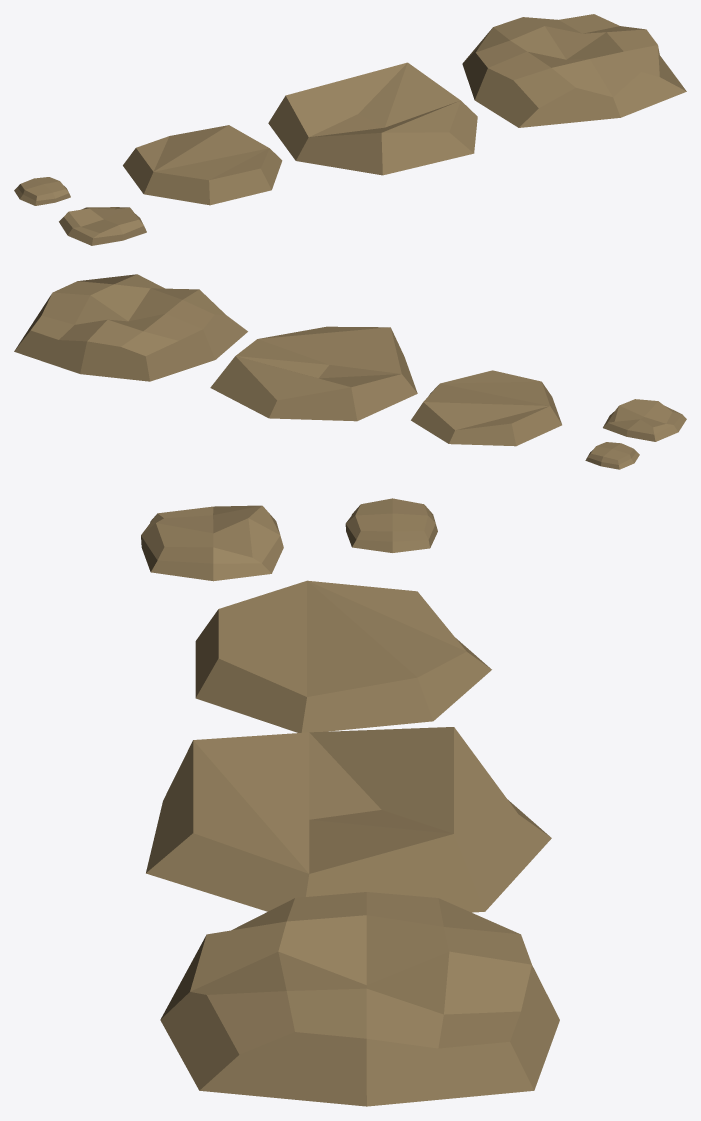
File: Ground-Pieces-a.fbx
The picture shows the model from 3 angles, top to bottom: view 1: azimuth 30°, elevation 25°; view 2: azimuth 150°, elevation 25°; view 3: azimuth 270°, elevation 25°; orthographic projection. The views are drawn at different scales.
Parts seen in each view (by area): view 1: Ground-Piece-5-a, Ground-Piece-4-a, Ground-Piece-3-a, Ground-Piece-2-a, Ground-Piece-1-a; view 2: Ground-Piece-5-a, Ground-Piece-4-a, Ground-Piece-3-a, Ground-Piece-2-a, Ground-Piece-1-a; view 3: Ground-Piece-5-a, Ground-Piece-4-a, Ground-Piece-3-a, Ground-Piece-2-a, Ground-Piece-1-a.
Part boxes in pixels (x1,y1,x2,y2): Ground-Piece-5-a: (462,14,686,127); Ground-Piece-4-a: (268,62,477,175); Ground-Piece-3-a: (123,125,282,205); Ground-Piece-2-a: (59,207,146,245); Ground-Piece-1-a: (14,177,70,205); Ground-Piece-5-a: (14,274,247,381); Ground-Piece-4-a: (210,326,417,421); Ground-Piece-3-a: (411,370,561,446); Ground-Piece-2-a: (603,399,686,441); Ground-Piece-1-a: (585,442,639,469); Ground-Piece-5-a: (160,892,559,1106); Ground-Piece-4-a: (146,727,551,912); Ground-Piece-3-a: (195,580,491,732); Ground-Piece-2-a: (141,505,283,581); Ground-Piece-1-a: (345,498,437,552).
Size of the model in its own units: 266 by 14.56 by 80.26.
